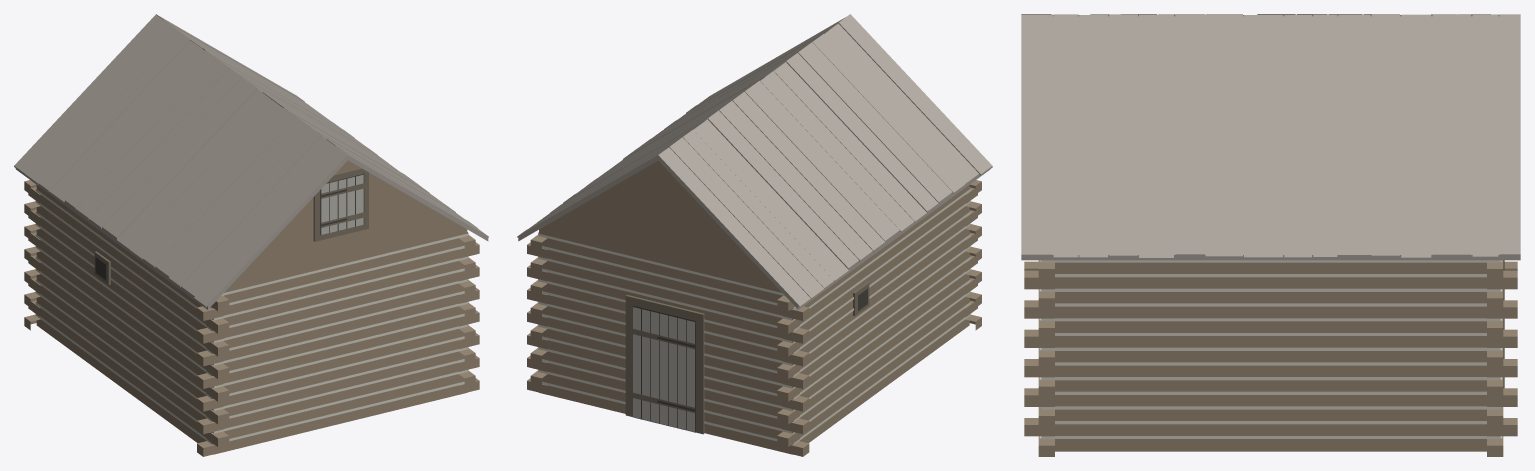
The model's file is recon_1835_blk_randolph_clinton_a1_06__inferred_1835.glb.
3 renders of one model, left to right at view 1: azimuth 30°, elevation 25°; view 2: azimuth 150°, elevation 25°; view 3: azimuth 270°, elevation 25°, orthographic. The views are drawn at different scales.
Parts seen in each view (by area): view 1: recon_1835_blk_randolph_clinton_a1_06__inferred_1835; view 2: recon_1835_blk_randolph_clinton_a1_06__inferred_1835; view 3: recon_1835_blk_randolph_clinton_a1_06__inferred_1835.
Part boxes in pixels (left/top/right/bottom): recon_1835_blk_randolph_clinton_a1_06__inferred_1835: left=14, top=14, right=488, bottom=456; recon_1835_blk_randolph_clinton_a1_06__inferred_1835: left=517, top=14, right=992, bottom=456; recon_1835_blk_randolph_clinton_a1_06__inferred_1835: left=1021, top=14, right=1520, bottom=456.
Bounding box in the file's own units: 6.13 × 5.65 × 7.16.
